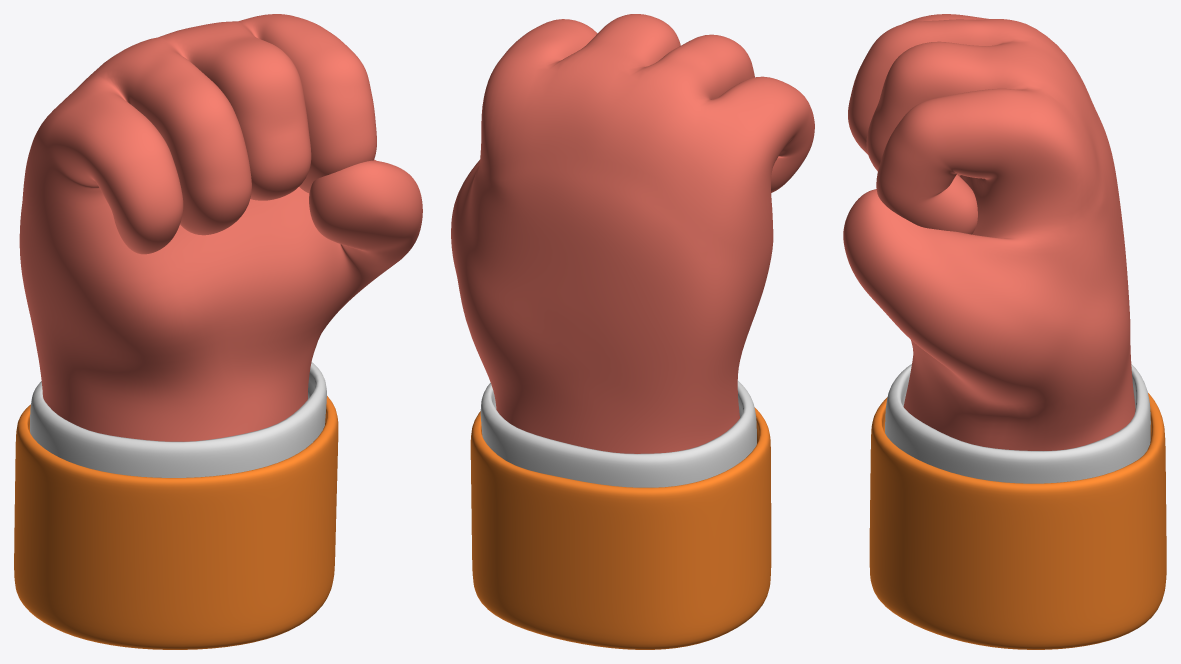
Rendered from fist.gltf.
3 renders of one model, left to right at view 1: azimuth 30°, elevation 25°; view 2: azimuth 150°, elevation 25°; view 3: azimuth 270°, elevation 25°, orthographic. The views are drawn at different scales.
Visible parts, largest first — view 1: Cylinder.004, Cylinder.005, Cylinder.006; view 2: Cylinder.004, Cylinder.005, Cylinder.006; view 3: Cylinder.004, Cylinder.005, Cylinder.006.
Boxes of the visible parts, x1=… form: Cylinder.004: x1=19, y1=14, x2=422, y2=441; Cylinder.005: x1=14, y1=396, x2=338, y2=649; Cylinder.006: x1=30, y1=362, x2=326, y2=477; Cylinder.004: x1=451, y1=14, x2=814, y2=453; Cylinder.005: x1=470, y1=407, x2=771, y2=649; Cylinder.006: x1=480, y1=380, x2=756, y2=487; Cylinder.004: x1=843, y1=14, x2=1135, y2=450; Cylinder.005: x1=869, y1=393, x2=1166, y2=649; Cylinder.006: x1=885, y1=364, x2=1150, y2=483.
Bounding box in the file's own units: 0.4452 × 0.7135 × 0.3744.
